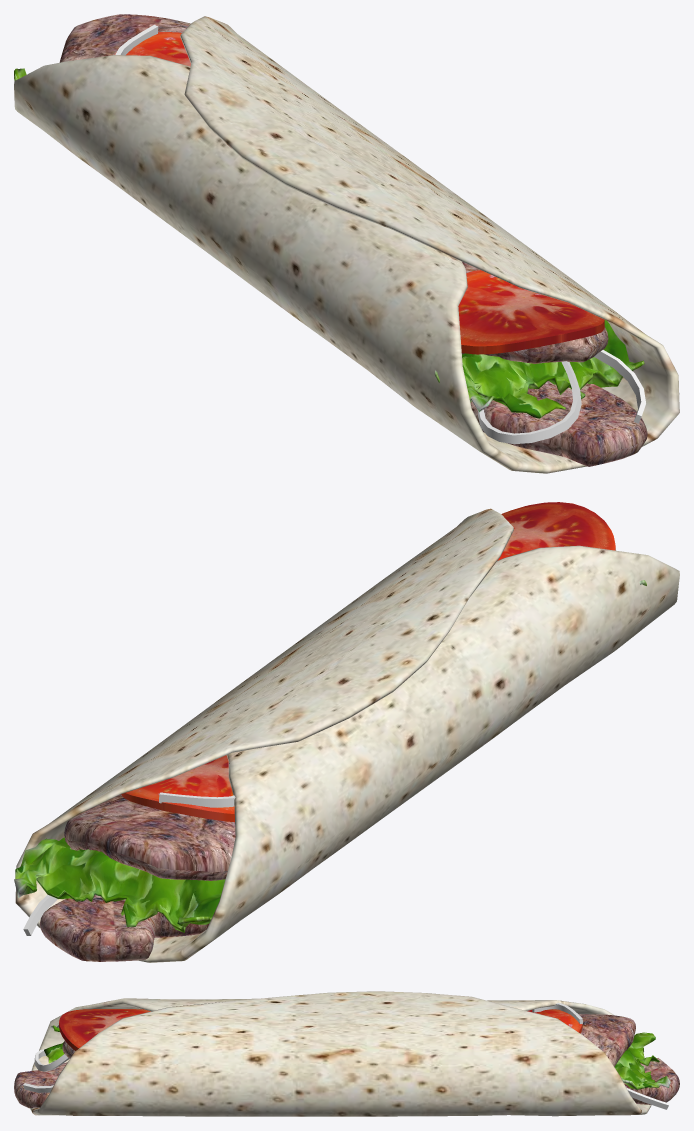
Rendered from kebab.glb.
3 views of the same model, one above another, from view 1: azimuth 30°, elevation 25°; view 2: azimuth 150°, elevation 25°; view 3: azimuth 270°, elevation 25° (orthographic). The views are drawn at different scales.
Parts seen in each view (by area): view 1: Circle001, Circle002, Line001, Line005, Line004, Line007, Line003, Circle003; view 2: Circle001, Line004, Line006, Line002, Circle002, Circle003, Line007; view 3: Circle001, Line004, Circle002, Line006, Line001, Line007, Line002, Circle003, Line005.
Part boxes in pixels (x1=…): Circle001: x1=14, y1=16, x2=679, y2=473; Circle002: x1=458, y1=270, x2=604, y2=354; Line001: x1=470, y1=381, x2=647, y2=466; Line005: x1=434, y1=320, x2=644, y2=418; Line004: x1=59, y1=14, x2=190, y2=62; Line007: x1=115, y1=25, x2=645, y2=444; Line003: x1=462, y1=261, x2=608, y2=363; Circle003: x1=114, y1=32, x2=190, y2=66; Circle001: x1=15, y1=508, x2=679, y2=962; Line004: x1=64, y1=794, x2=235, y2=880; Line006: x1=14, y1=837, x2=225, y2=932; Line002: x1=39, y1=894, x2=209, y2=961; Circle002: x1=497, y1=502, x2=615, y2=560; Circle003: x1=121, y1=755, x2=234, y2=822; Line007: x1=23, y1=792, x2=235, y2=935; Circle001: x1=30, y1=991, x2=651, y2=1116; Line004: x1=578, y1=1014, x2=635, y2=1066; Circle002: x1=59, y1=1009, x2=150, y2=1050; Line006: x1=614, y1=1032, x2=670, y2=1089; Line001: x1=14, y1=1062, x2=67, y2=1108; Line007: x1=23, y1=1002, x2=668, y2=1109; Line002: x1=624, y1=1058, x2=679, y2=1104; Circle003: x1=527, y1=1009, x2=582, y2=1033; Line005: x1=44, y1=1025, x2=64, y2=1063.
Bounding box in the file's own units: 0.4789 × 0.2839 × 2.
Materials: 5 (5 with a texture image).
